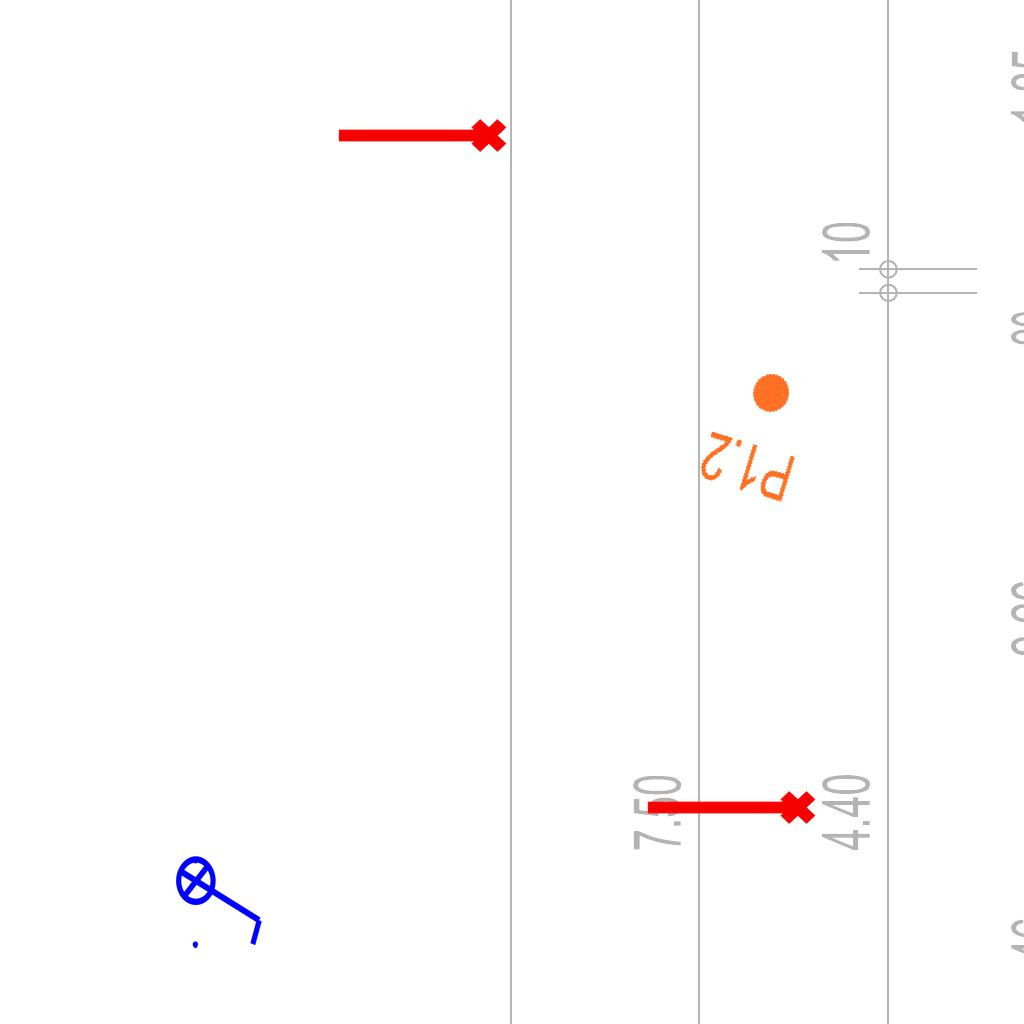ASR_Ansaugoeffnung: (333, 115, 509, 161), (642, 787, 818, 833)
Ausschalter_beleuchtet: (174, 842, 270, 954)
Downlight_LED_Einbauleuchten_Flur: (694, 357, 821, 507)
